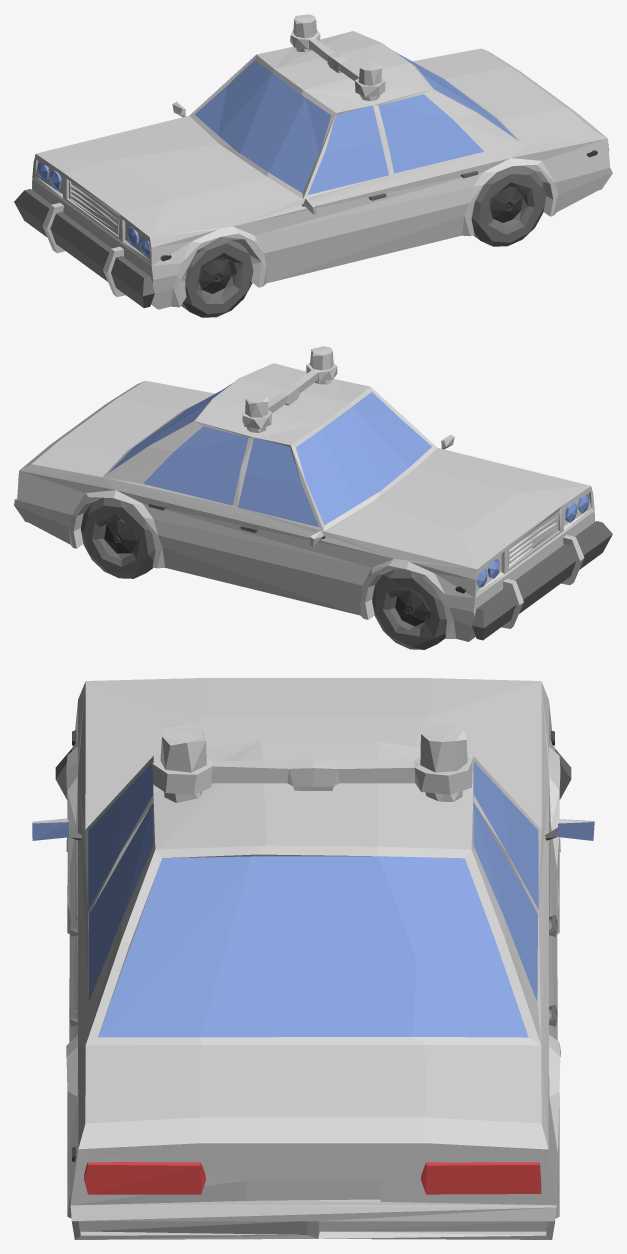
The model's file is carCop.glb.
3 renders of one model, top to bottom at view 1: azimuth 30°, elevation 25°; view 2: azimuth 150°, elevation 25°; view 3: azimuth 270°, elevation 25°, orthographic. The views are drawn at different scales.
Parts seen in each view (by area): view 1: Машины.001; view 2: Машины.001; view 3: Машины.001.
Part boxes in pixels (x1=…): Машины.001: x1=14, y1=14, x2=612, y2=317; Машины.001: x1=14, y1=346, x2=612, y2=649; Машины.001: x1=32, y1=678, x2=594, y2=1239.
Bounding box in the file's own units: 5.5 × 2.09 × 2.8.
